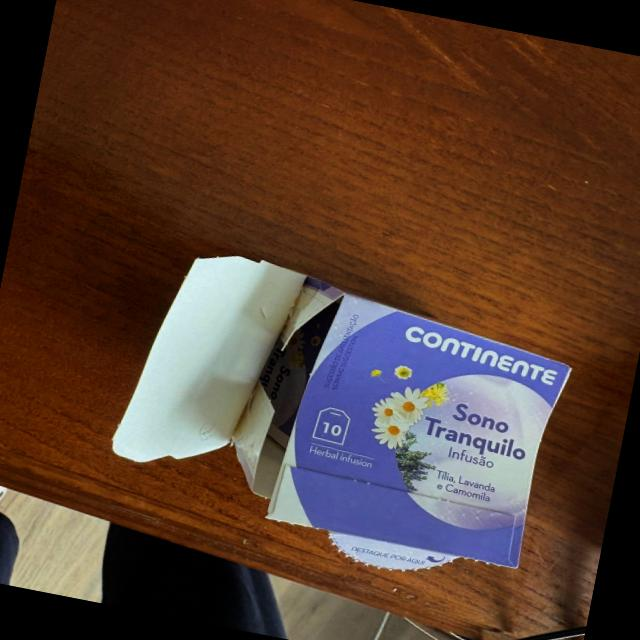damaged_package: (104, 240, 585, 598)
